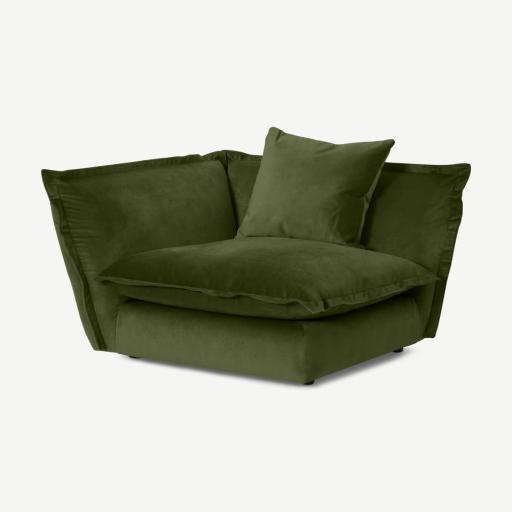back_cushion: (228, 128, 389, 246)
base: (114, 294, 420, 383)
left_arm: (360, 163, 469, 337)
right_arm: (43, 155, 235, 350)
seat_cushion: (97, 237, 436, 320)
